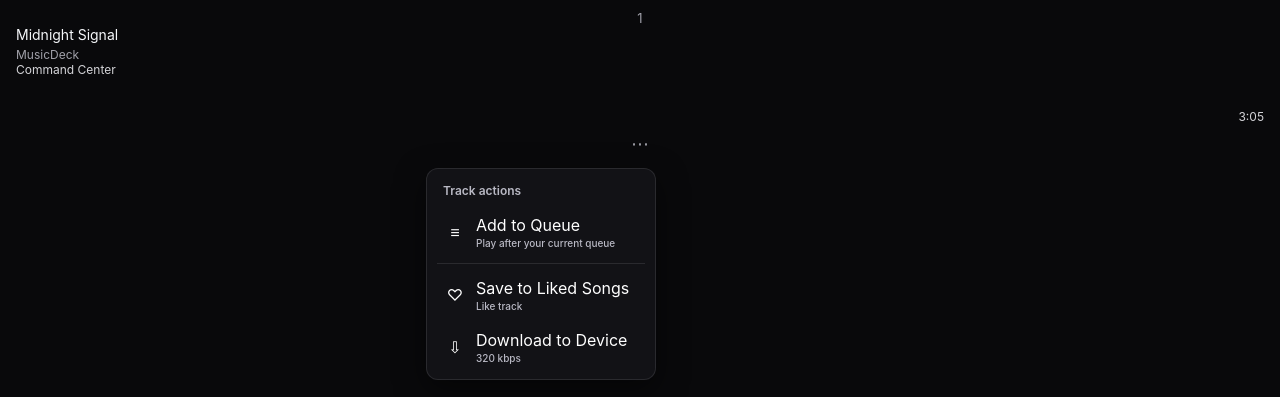
downloads a server track for offline playback at the selected quality
Click the menu item "⇩ Download to Device 320 kbps": (541, 346) [433, 320, 649, 372]
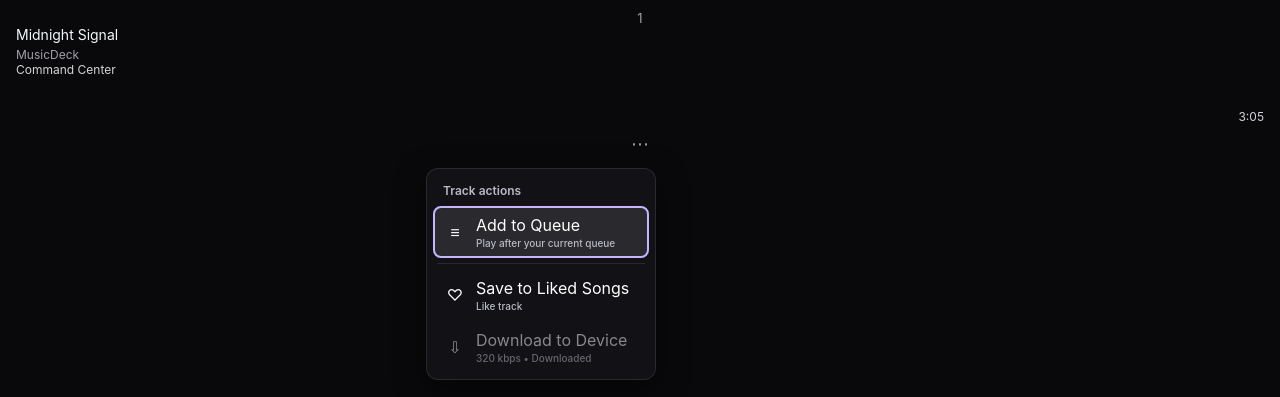
Expected: the text "320 kbps • Downloaded" is shown, [476, 352, 592, 364]
